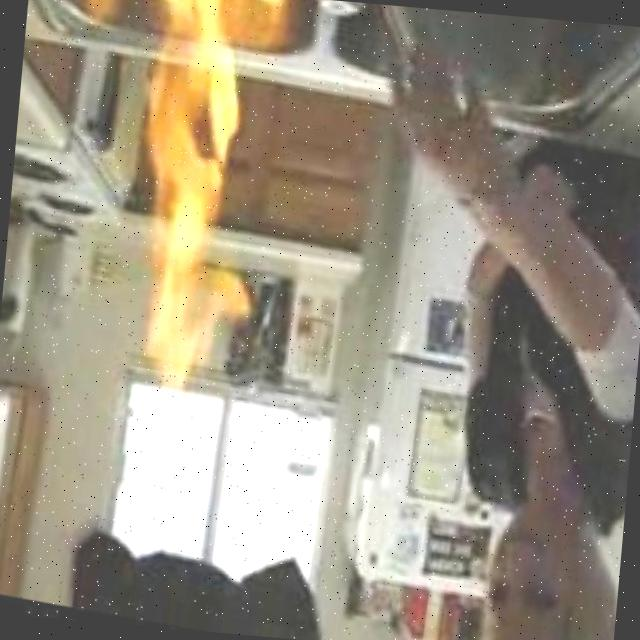fire: (70, 0, 298, 390)
